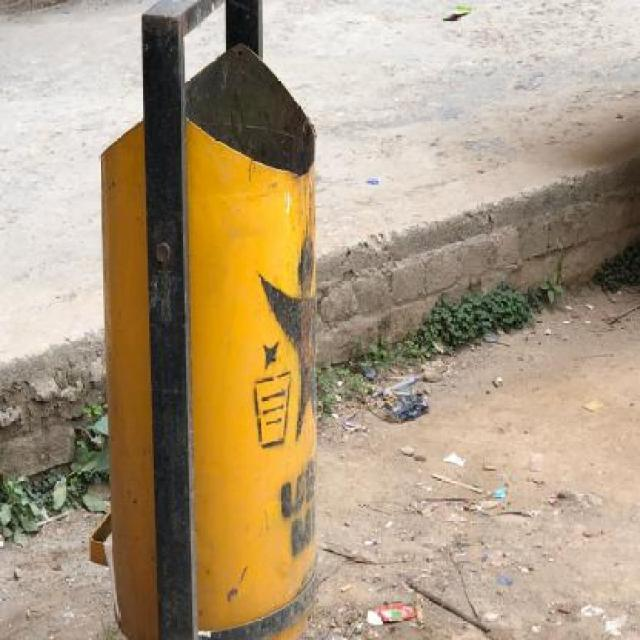garbage: (368, 380, 610, 528), (331, 566, 548, 640)
